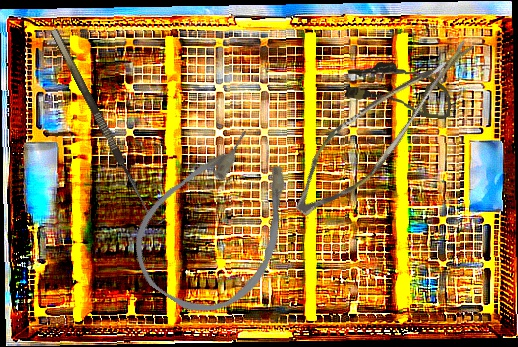Cannula: (114, 111, 325, 335), (343, 59, 455, 120)
Hook Surgical: (49, 22, 168, 229)
Micro Scissor: (284, 6, 475, 241)
